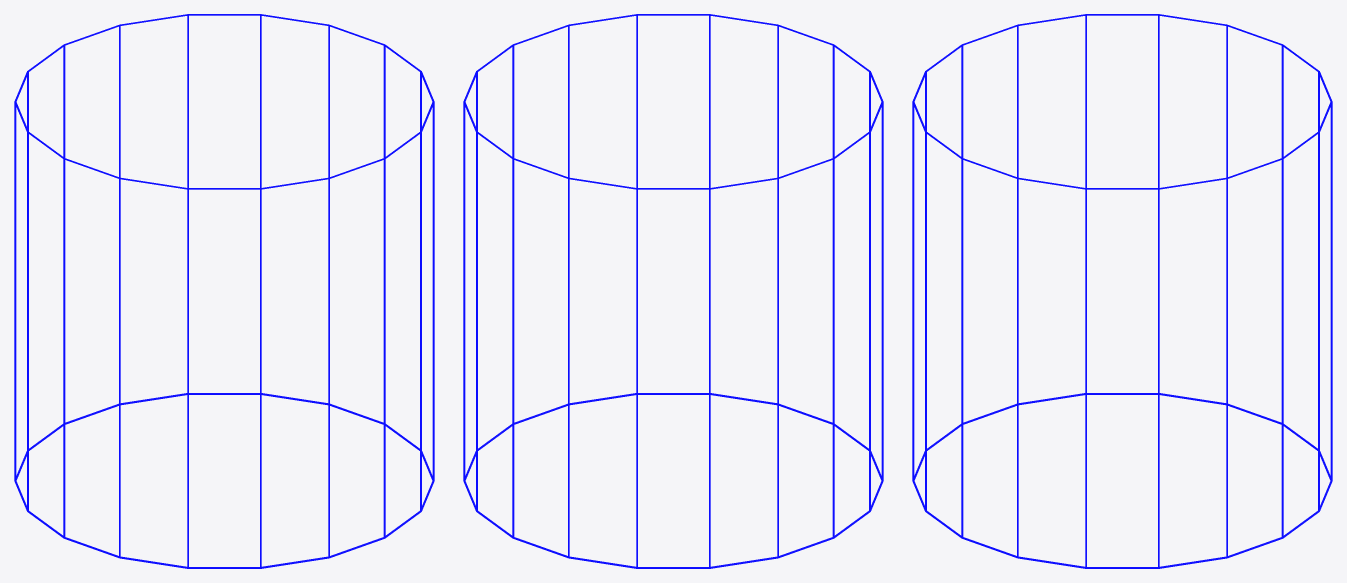
File: CylinderWireframe.fbx
The picture shows the model from 3 angles, left to right: view 1: azimuth 30°, elevation 25°; view 2: azimuth 150°, elevation 25°; view 3: azimuth 270°, elevation 25°; orthographic projection.
Visible parts, largest first — view 1: Bottom, Cylinder.006, Cylinder.012, Cylinder.008, Cylinder.010, Cylinder.007, Cylinder.011, Cylinder.005, Cylinder.013, Cylinder.009, Cylinder.004, Cylinder.014 (+5 smaller); view 2: Bottom, Cylinder.006, Cylinder.018, Cylinder.002, Cylinder.004, Cylinder.001, Cylinder.005, Cylinder.007, Cylinder.017, Cylinder.003, Cylinder.008, Cylinder.016 (+5 smaller); view 3: Bottom, Cylinder.012, Cylinder.018, Cylinder.014, Cylinder.016, Cylinder.013, Cylinder.017, Cylinder.001, Cylinder.011, Cylinder.015, Cylinder.002, Cylinder.010 (+5 smaller).
Part boxes in pixels (x1,y1,x2,y2): Bottom: (14, 393, 434, 568); Cylinder.006: (27, 131, 65, 537); Cylinder.012: (383, 131, 421, 537); Cylinder.008: (119, 177, 188, 568); Cylinder.010: (260, 177, 329, 568); Cylinder.007: (63, 158, 119, 557); Cylinder.011: (329, 158, 385, 557); Cylinder.005: (14, 101, 28, 510); Cylinder.013: (420, 101, 434, 510); Cylinder.009: (187, 188, 261, 568); Cylinder.004: (15, 71, 28, 480); Cylinder.014: (420, 71, 433, 480); Bottom: (463, 393, 883, 568); Cylinder.006: (832, 131, 870, 537); Cylinder.018: (476, 131, 514, 537); Cylinder.002: (568, 177, 637, 568); Cylinder.004: (709, 177, 778, 568); Cylinder.001: (512, 158, 568, 557); Cylinder.005: (778, 158, 834, 557); Cylinder.007: (869, 101, 883, 510); Cylinder.017: (463, 101, 477, 510); Cylinder.003: (636, 188, 710, 568); Cylinder.008: (869, 71, 882, 480); Cylinder.016: (464, 71, 477, 480); Bottom: (912, 393, 1332, 568); Cylinder.012: (925, 131, 963, 537); Cylinder.018: (1281, 131, 1319, 537); Cylinder.014: (1017, 177, 1086, 568); Cylinder.016: (1158, 177, 1227, 568); Cylinder.013: (961, 158, 1017, 557); Cylinder.017: (1227, 158, 1283, 557); Cylinder.001: (1318, 101, 1332, 510); Cylinder.011: (912, 101, 926, 510); Cylinder.015: (1085, 188, 1159, 568); Cylinder.002: (1318, 71, 1331, 480); Cylinder.010: (913, 71, 926, 480).
Bounding box in the file's own units: 198 × 201 × 201.
